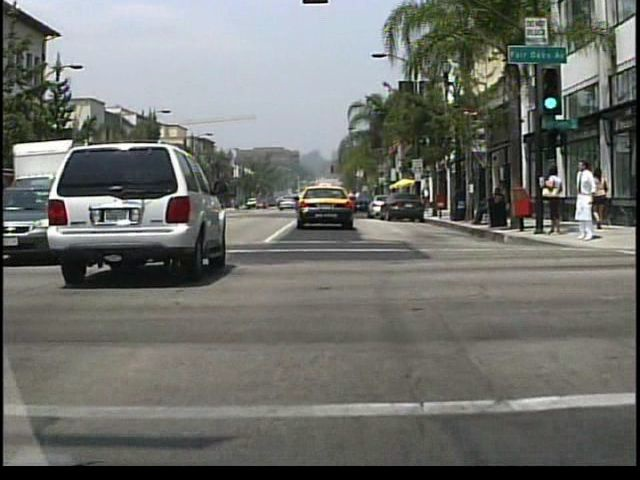person: (572, 159, 596, 242), (541, 163, 563, 237), (590, 168, 613, 234), (467, 189, 493, 228), (490, 179, 503, 224), (421, 185, 432, 212)
